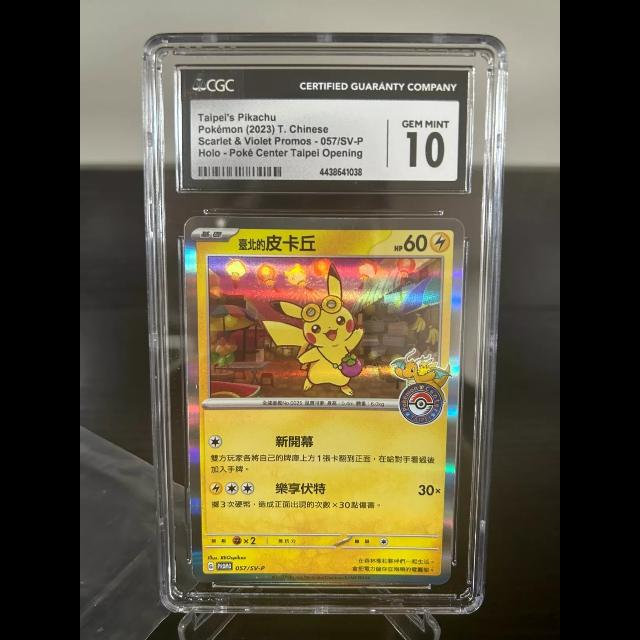card: (184, 215, 466, 584)
cgc_label: (181, 69, 470, 191)
cgc_slab: (142, 32, 509, 616)
